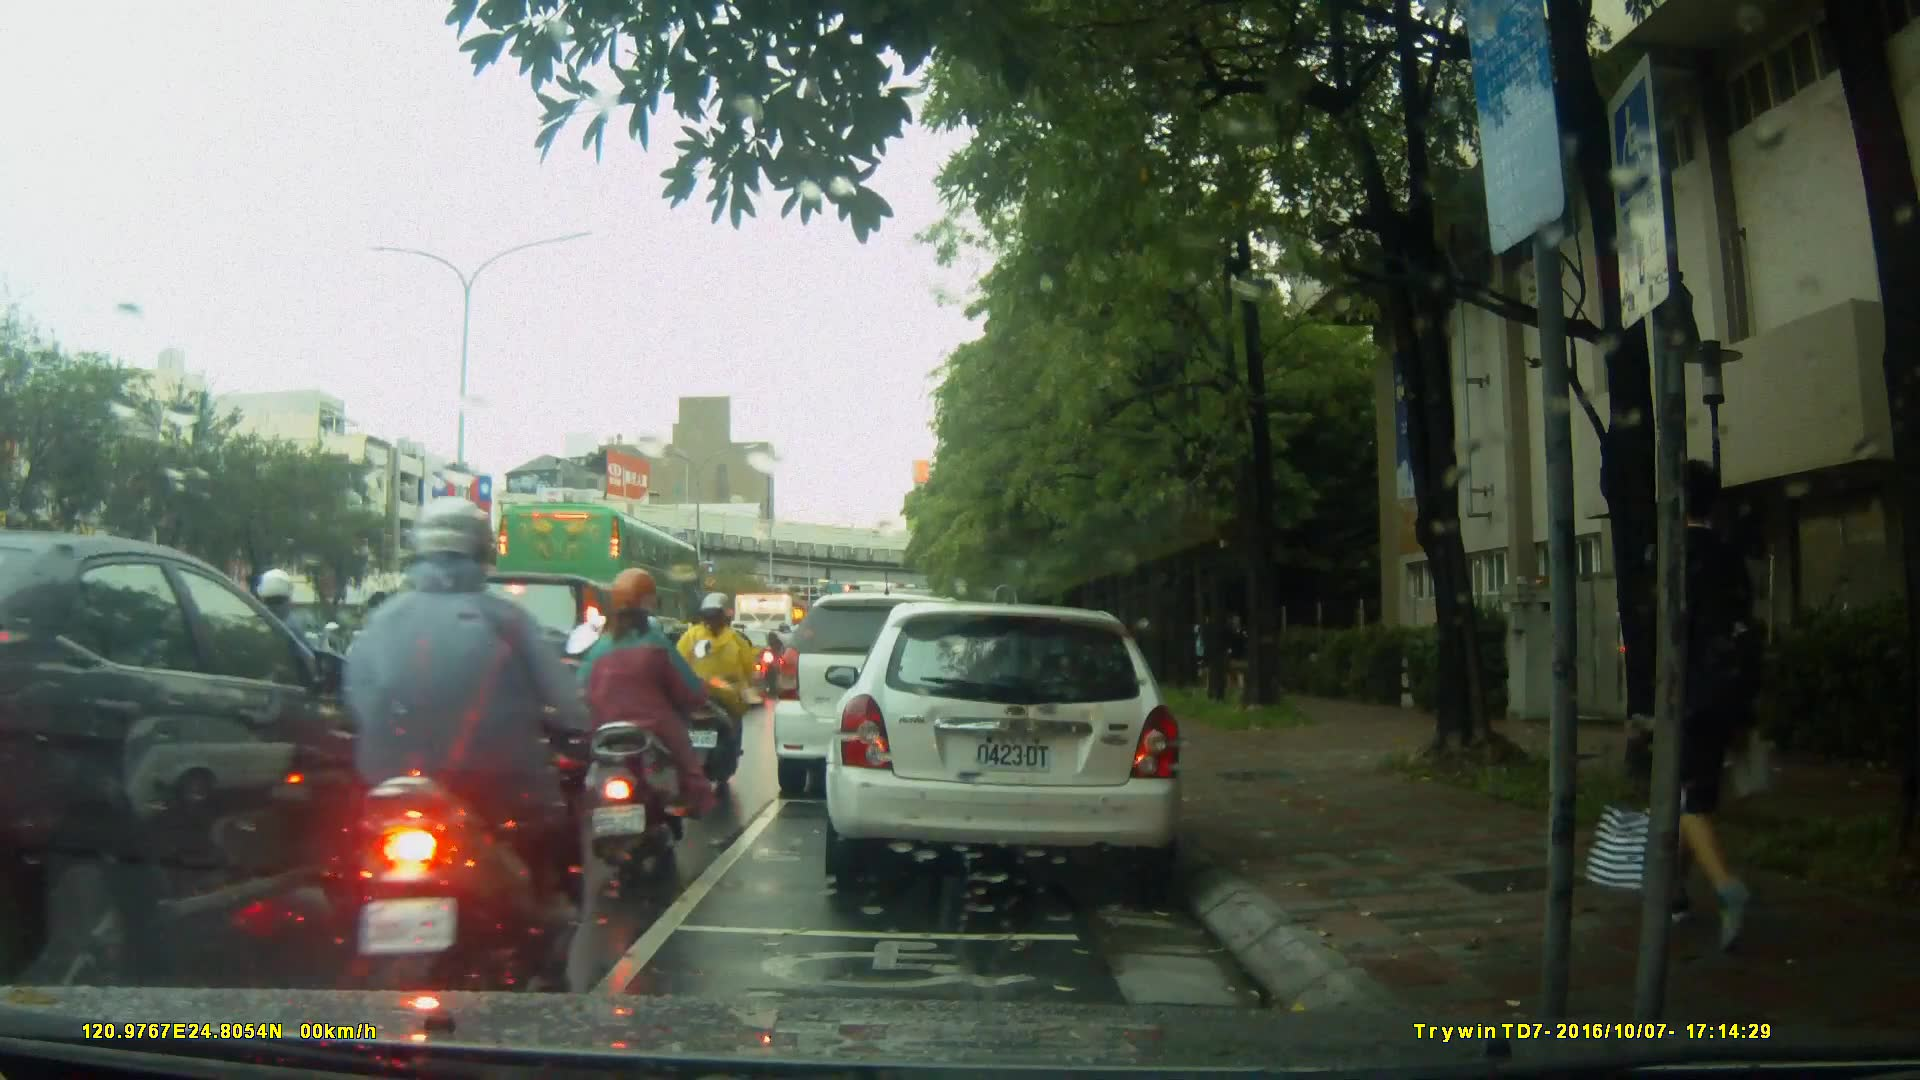pedestrian: (1587, 446, 1774, 956)
rider: (332, 494, 604, 1020), (573, 569, 691, 885), (237, 573, 347, 792), (676, 590, 763, 788)
vehicle: (8, 528, 417, 988), (831, 592, 1196, 897), (410, 568, 676, 793), (770, 592, 999, 800), (493, 499, 705, 658)
